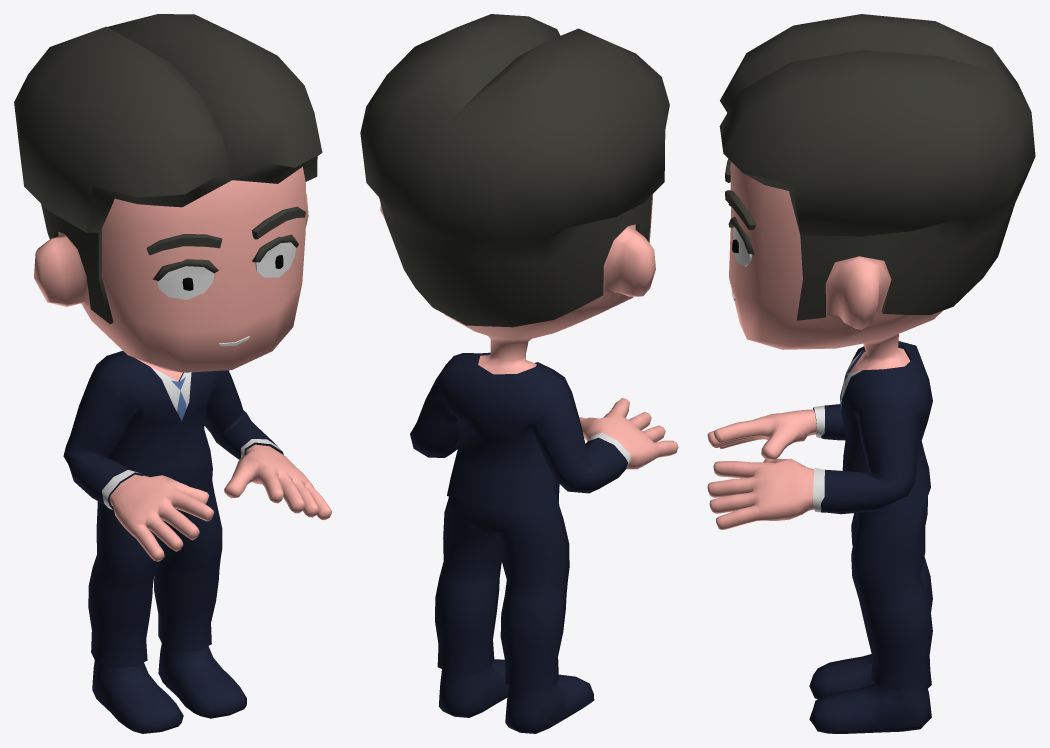
Rendered from Personajes_juzgado.fbx.
The picture shows the model from 3 angles, left to right: view 1: azimuth 30°, elevation 25°; view 2: azimuth 150°, elevation 25°; view 3: azimuth 270°, elevation 25°; orthographic projection.
Parts seen in each view (by area): view 1: hair8, body.008, shirt3.008, pants1.008, socks.008, eyesbase2.004, eyebrows1.008; view 2: hair8, shirt3.008, pants1.008, body.008, socks.008; view 3: hair8, body.008, shirt3.008, pants1.008, socks.008, eyesbase2.004, eyebrows1.008.
Boxes of the visible parts, <box> form: hair8: <box>14,14,322,324</box>; body.008: <box>34,166,331,561</box>; shirt3.008: <box>63,351,283,509</box>; pants1.008: <box>88,482,222,668</box>; socks.008: <box>92,643,246,733</box>; eyesbase2.004: <box>152,234,298,299</box>; eyebrows1.008: <box>146,206,305,255</box>; hair8: <box>360,14,669,327</box>; shirt3.008: <box>410,352,631,515</box>; pants1.008: <box>435,497,569,691</box>; body.008: <box>380,194,678,469</box>; socks.008: <box>438,659,594,733</box>; hair8: <box>719,14,1035,320</box>; body.008: <box>707,162,942,529</box>; shirt3.008: <box>813,341,932,514</box>; pants1.008: <box>851,496,932,690</box>; socks.008: <box>809,654,931,733</box>; eyesbase2.004: <box>728,204,754,266</box>; eyebrows1.008: <box>725,159,755,230</box>.
Bounding box in the file's own units: 74.78 × 177 × 78.26.
